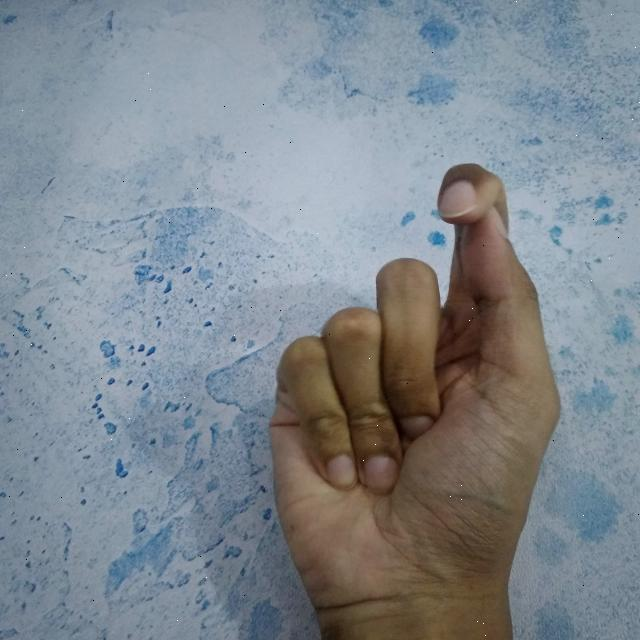T: (267, 160, 568, 640)
